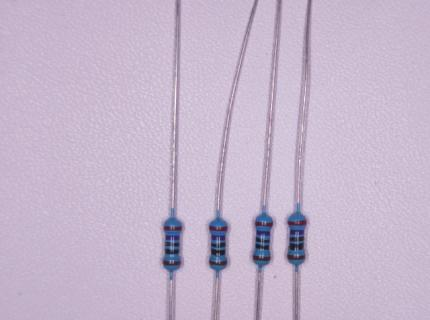Black band: (289, 242, 304, 251), (211, 249, 226, 256), (211, 242, 226, 248), (165, 248, 179, 254), (256, 237, 270, 243), (256, 244, 270, 250), (290, 236, 304, 241), (166, 242, 179, 247)
Brown band: (253, 254, 271, 261), (208, 260, 228, 266), (287, 254, 306, 260), (162, 260, 182, 265)
Red band: (255, 220, 273, 227), (209, 225, 228, 231), (163, 226, 182, 231), (288, 220, 307, 225)
Violet band: (290, 229, 305, 235), (257, 230, 270, 236), (211, 235, 226, 240), (165, 235, 180, 240)
